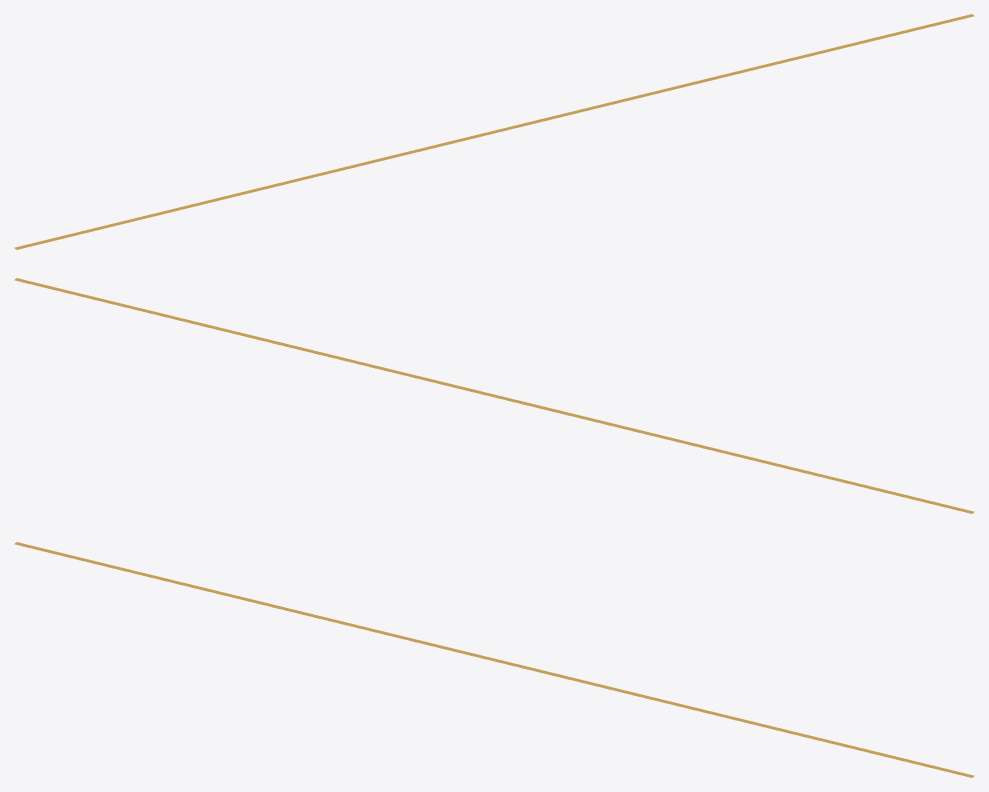
The model's file is RoadPlan_Marking_4L_L16_Center.glb.
The picture shows the model from 3 angles, top to bottom: view 1: azimuth 30°, elevation 25°; view 2: azimuth 150°, elevation 25°; view 3: azimuth 330°, elevation 25°; orthographic projection.
Visible parts, largest first — view 1: RoadPlan_Marking_4L_L16_Center; view 2: RoadPlan_Marking_4L_L16_Center; view 3: RoadPlan_Marking_4L_L16_Center.
Boxes of the visible parts, bbox=[...] form: RoadPlan_Marking_4L_L16_Center: bbox=[14, 14, 974, 249]; RoadPlan_Marking_4L_L16_Center: bbox=[14, 278, 974, 513]; RoadPlan_Marking_4L_L16_Center: bbox=[14, 542, 974, 777].
Size of the model in its own units: 16 by 0.0007 by 0.085.
